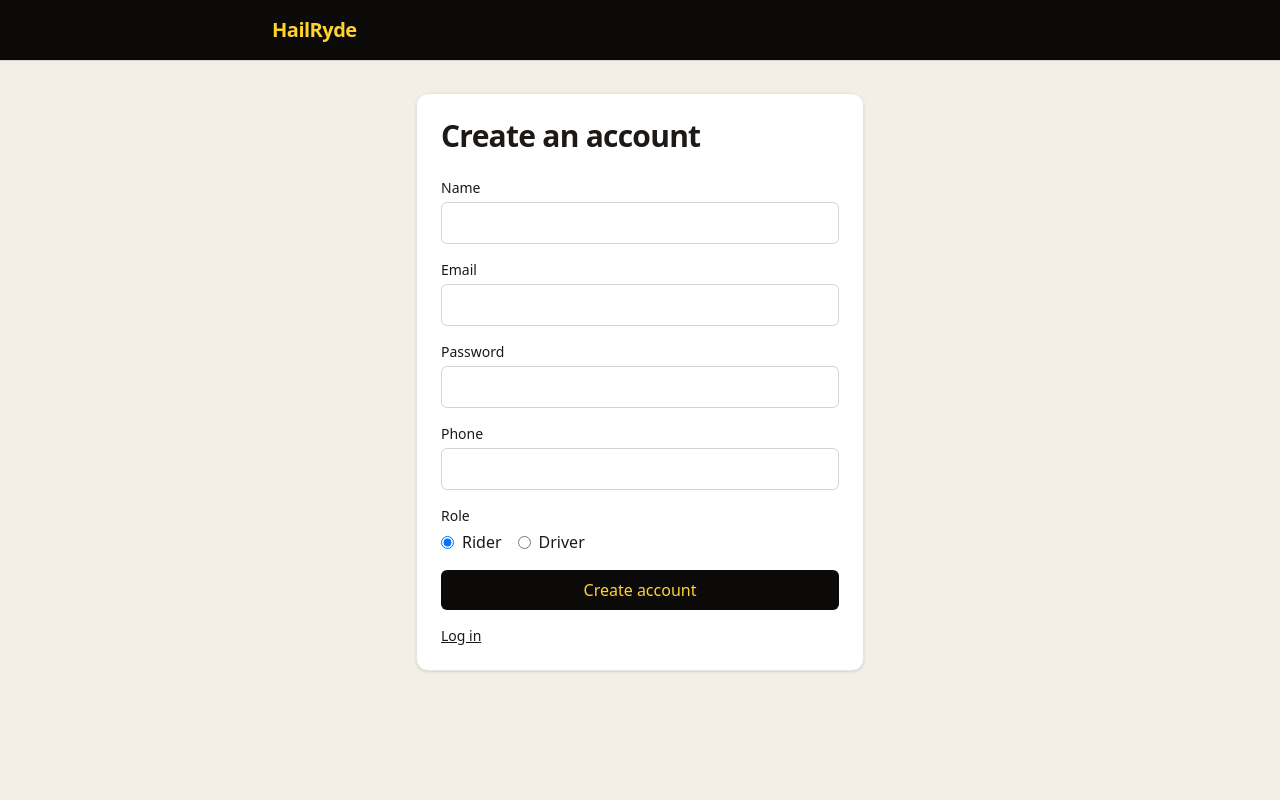
Test: shows field errors from the API and keeps the submit button usable
Type "Ayesha Khan" into the field labelled "Name". click: [640, 223]
box: [441,202,839,244]
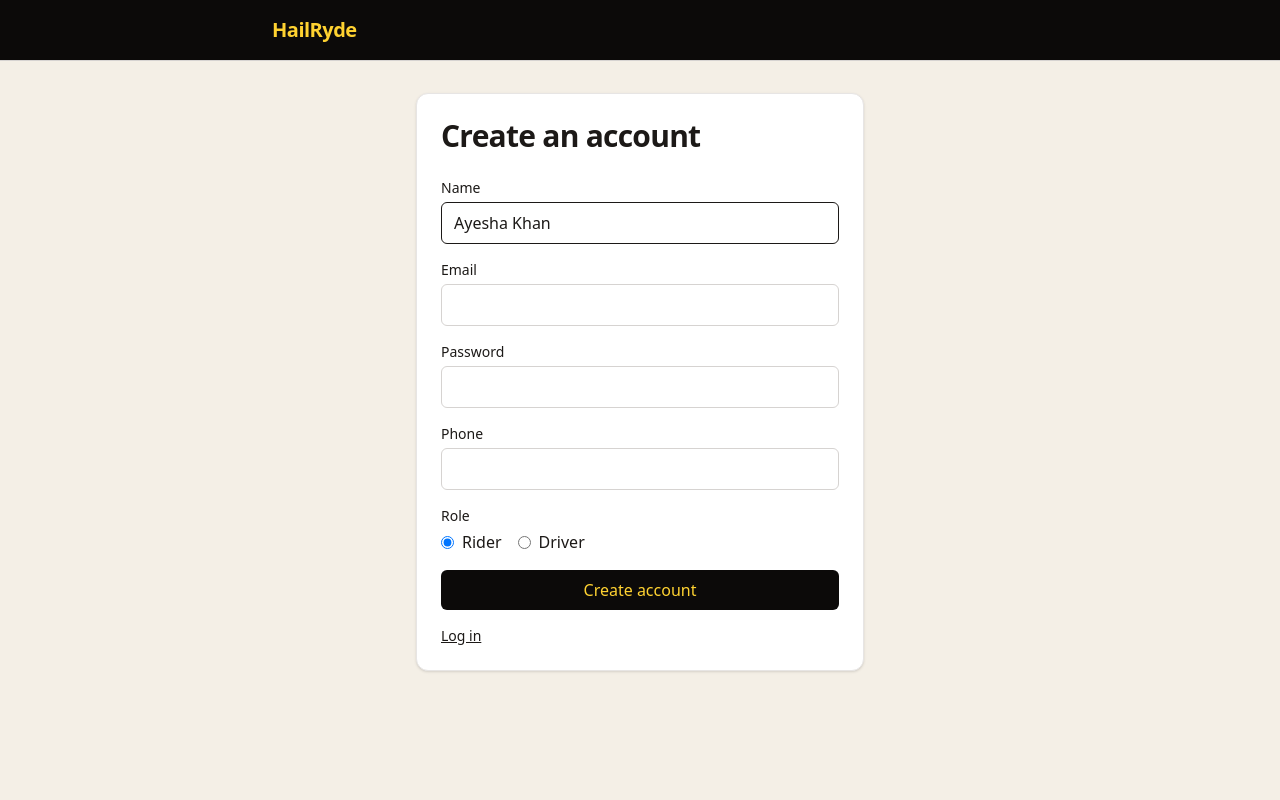
Type "ayesha@example.com" into the field labelled "Email". click: [640, 305]
box: [441,284,839,326]
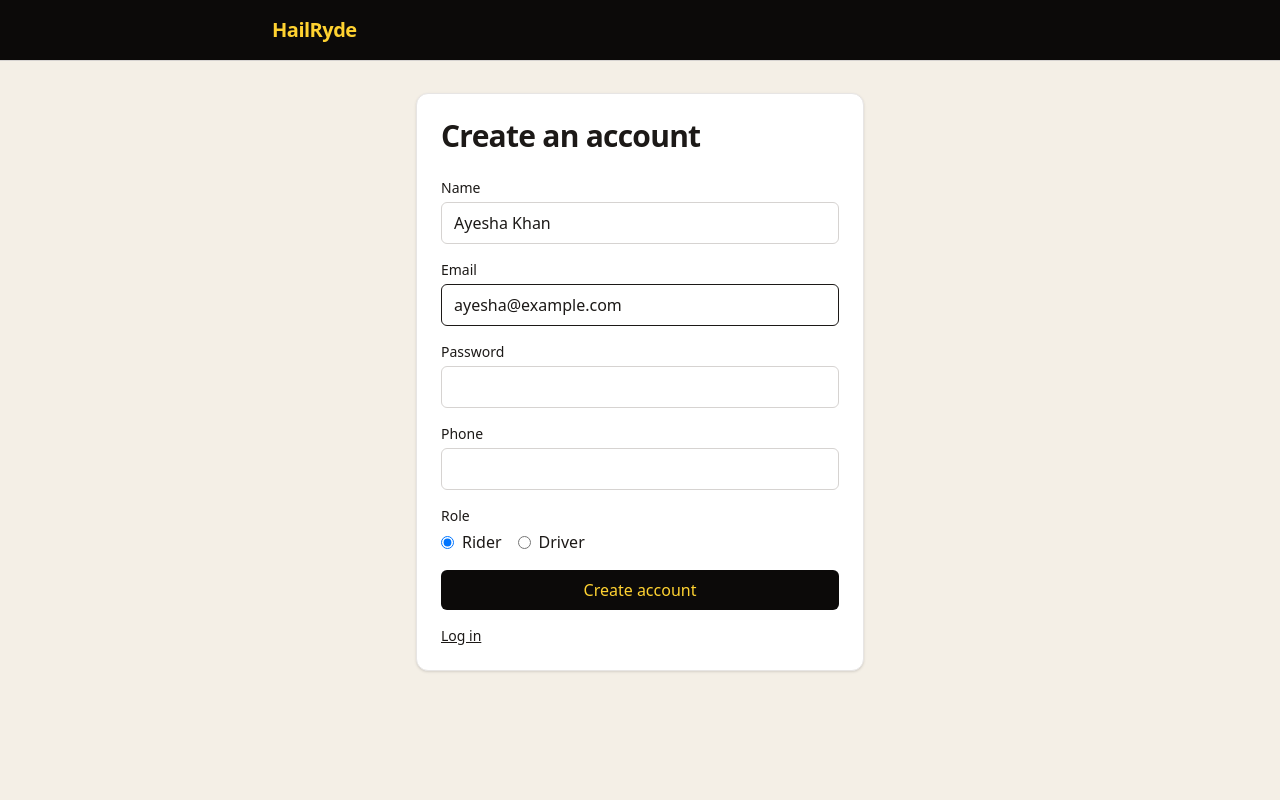
Type "password" into the password field labelled "Password". click: [640, 387]
box: [441,366,839,408]
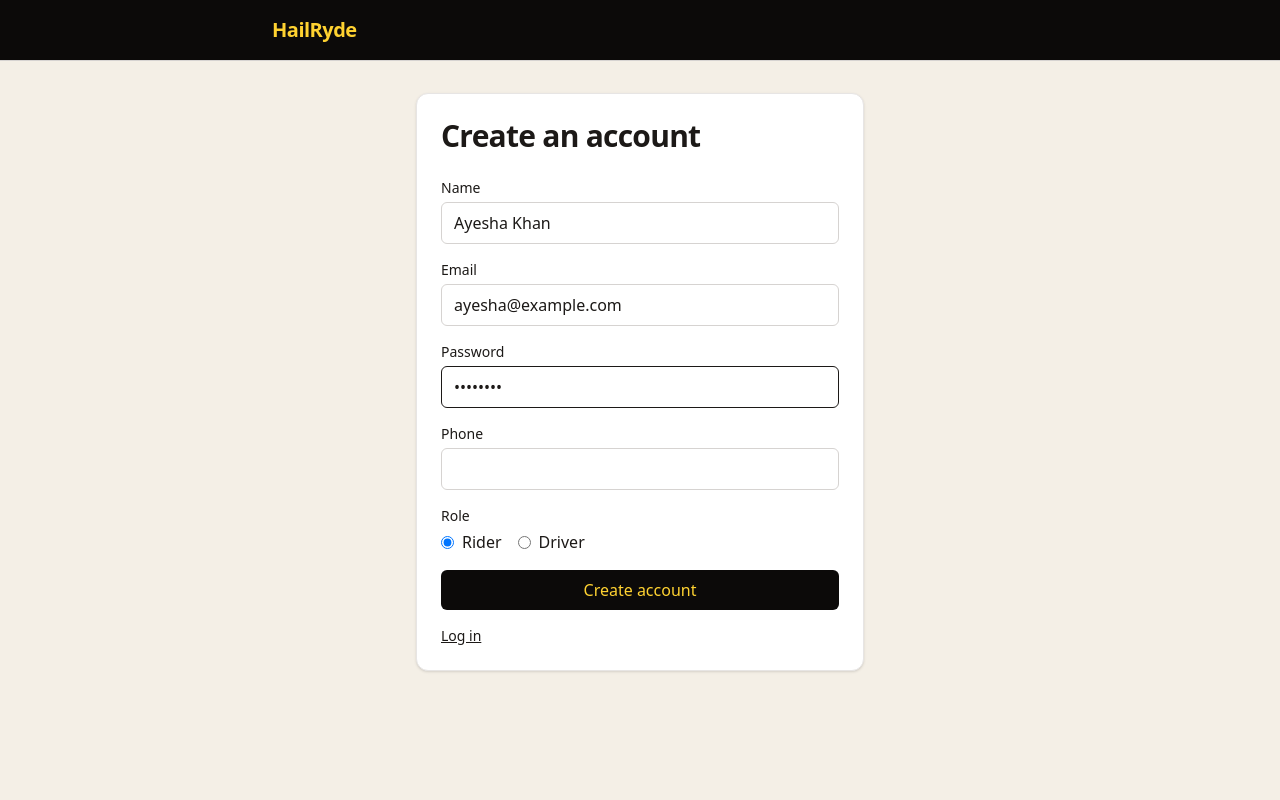
Type "03000000001" into the field labelled "Phone". click: [640, 469]
box: [441,448,839,490]
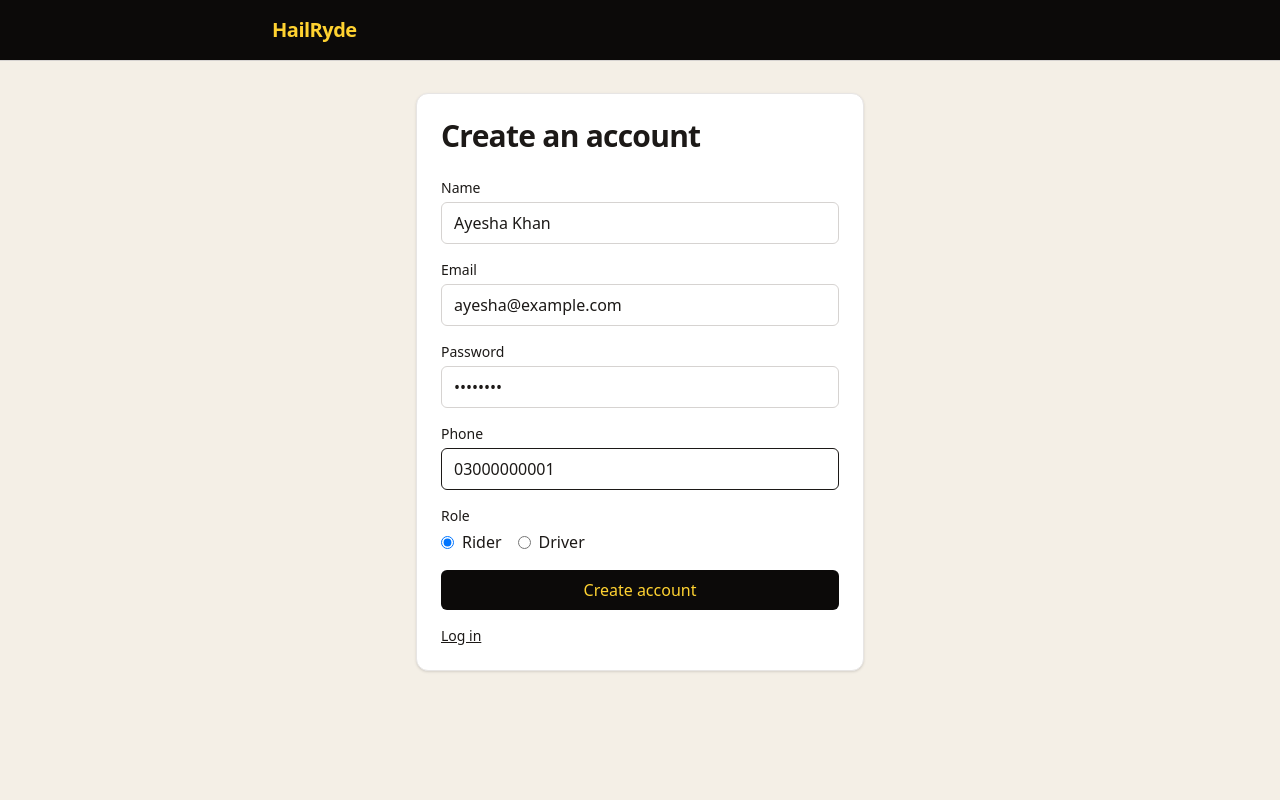
Click the button "Create account". click: [640, 590]
box: [441,570,839,610]
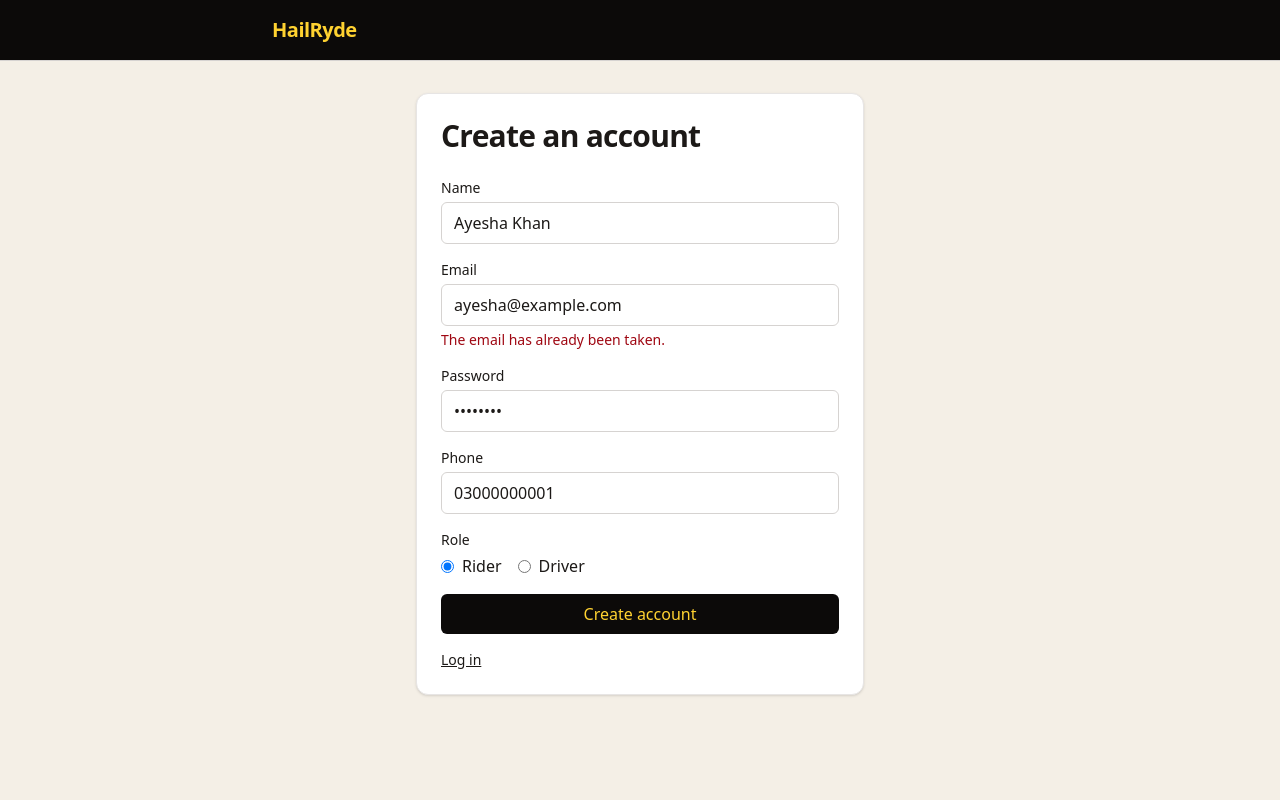
Expected: the button "Create account" is enabled, [441,594,839,634]
Expected: the text "The email has already been taken." is shown, [441,330,665,349]
